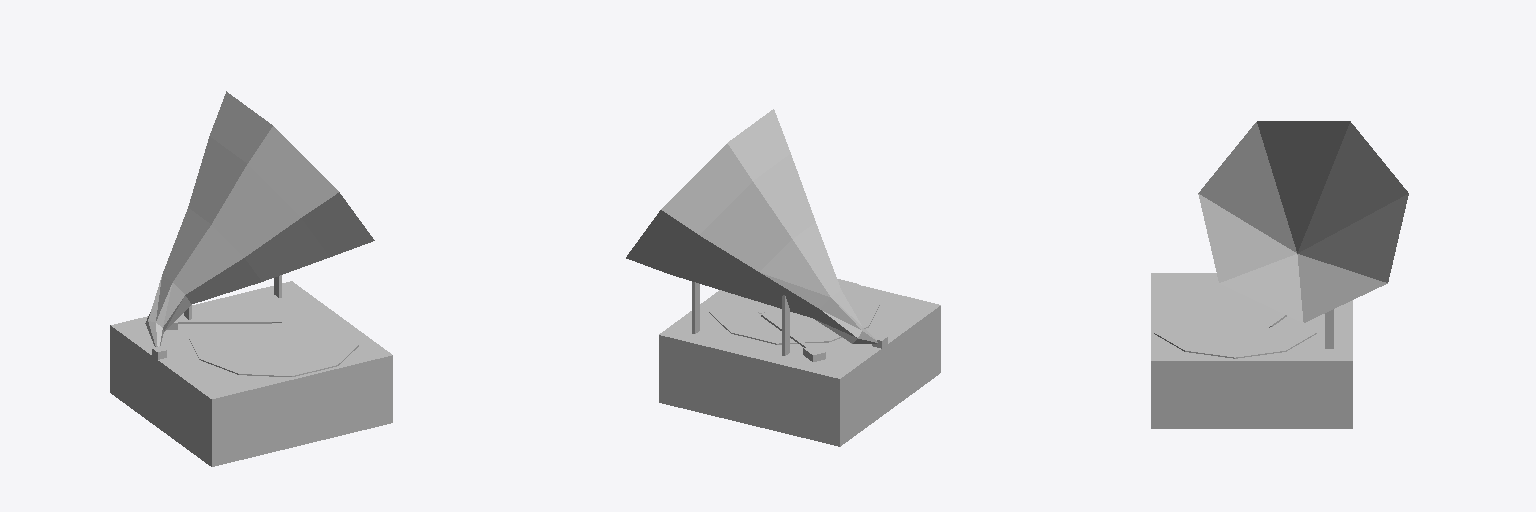
File: music.obj
3 views of the same model, side by side, from view 1: azimuth 30°, elevation 25°; view 2: azimuth 150°, elevation 25°; view 3: azimuth 270°, elevation 25° (orthographic).
Parts seen in each view (by area): view 1: music; view 2: music; view 3: music.
Part boxes in pixels (left/top/right/bottom): music: left=110, top=91, right=392, bottom=466; music: left=626, top=109, right=940, bottom=446; music: left=1151, top=121, right=1408, bottom=428.
Size of the model in its own units: 1.71 by 2.06 by 1.75.